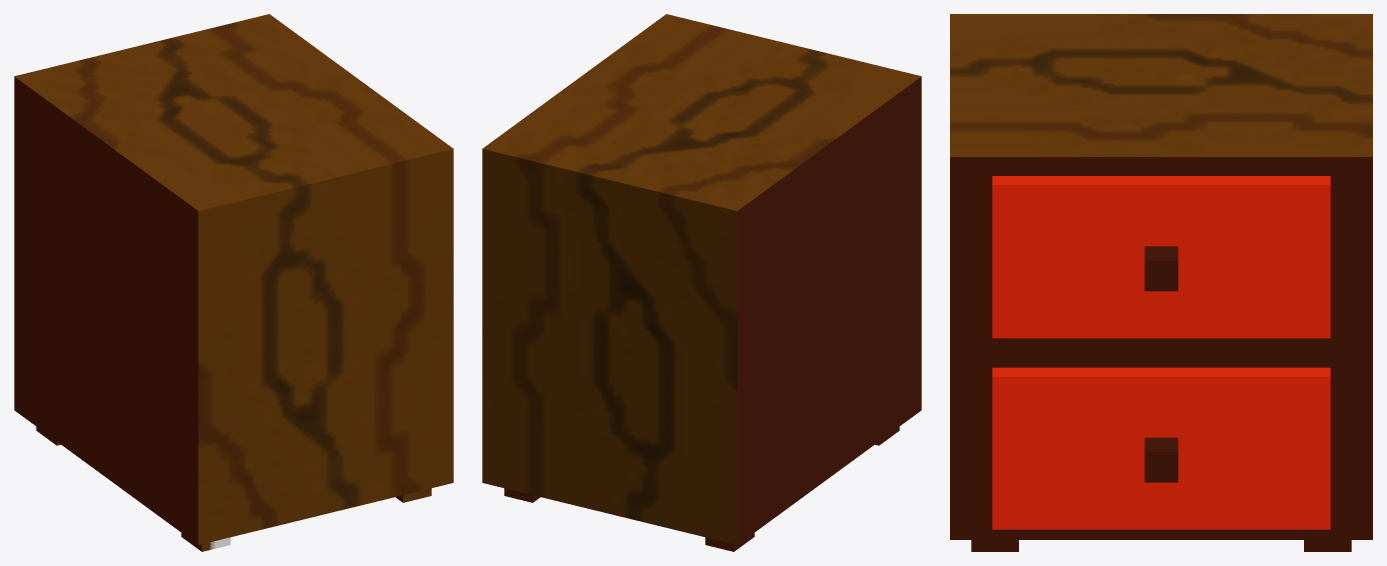
Rendered from Cupboard.fbx.
3 renders of one model, left to right at view 1: azimuth 30°, elevation 25°; view 2: azimuth 150°, elevation 25°; view 3: azimuth 270°, elevation 25°, orthographic. The views are drawn at different scales.
Parts seen in each view (by area): view 1: Cube.001; view 2: Cube.001; view 3: Cube.001.
Part boxes in pixels (bbox=[...]): Cube.001: bbox=[14, 14, 453, 551]; Cube.001: bbox=[482, 14, 921, 551]; Cube.001: bbox=[950, 14, 1372, 551].
Bounding box in the file's own units: 55.8 × 63 × 60.
3 materials, 1 textured.
